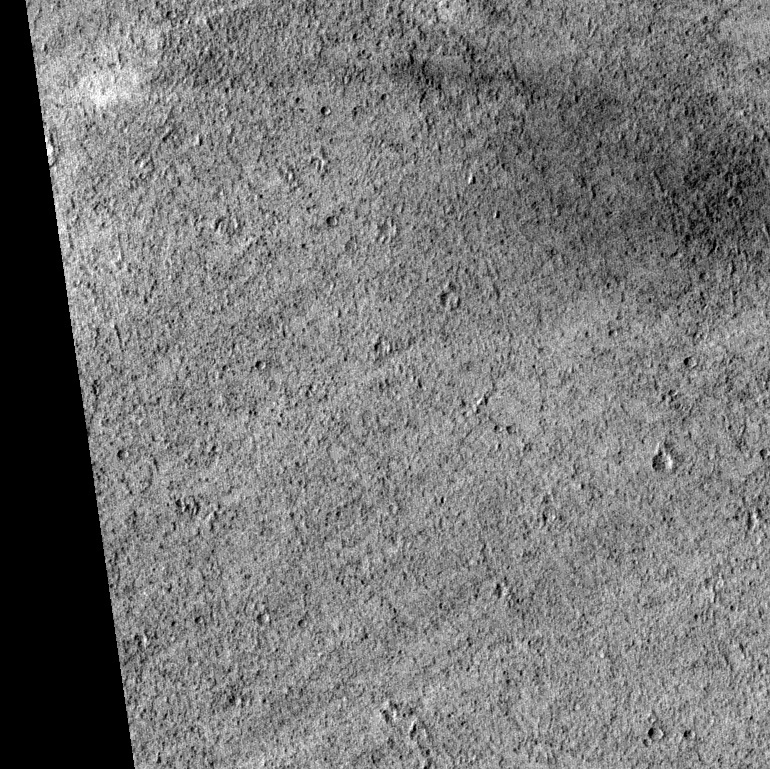dust_devil: (74, 46, 243, 112)
